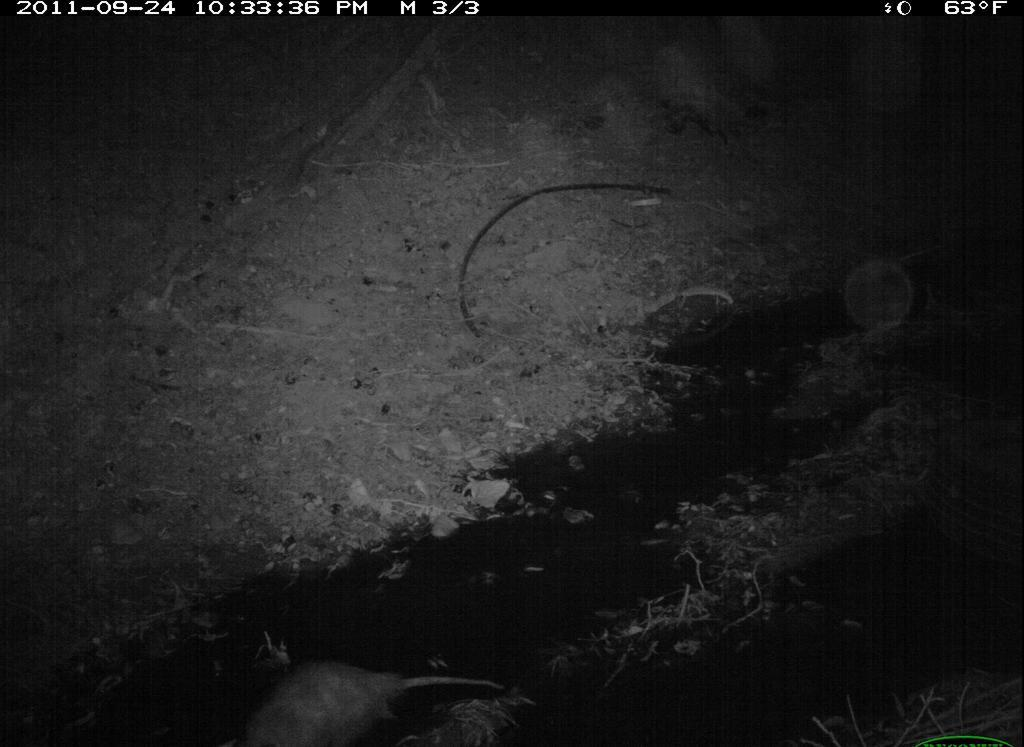opossum: (231, 653, 510, 747)
